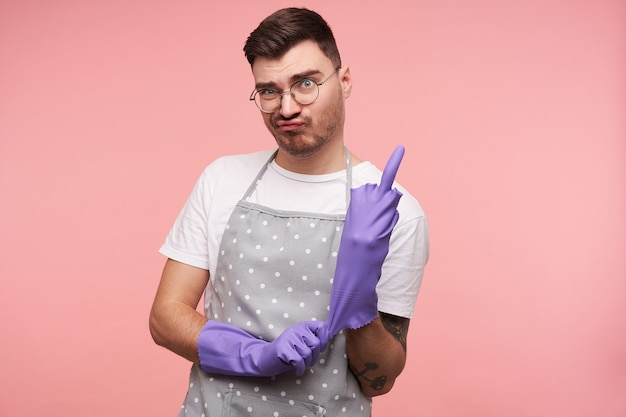insulting_gesture: (339, 144, 411, 259)
